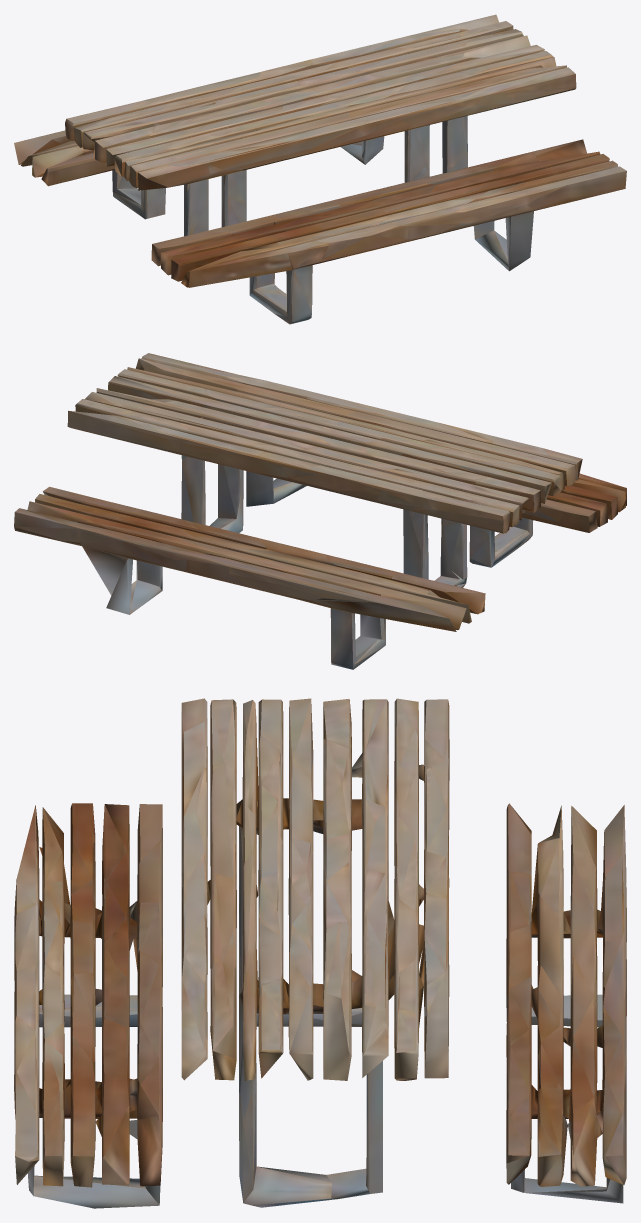
Rendered from kursi_taman_lod2.glb.
3 renders of one model, top to bottom at view 1: azimuth 30°, elevation 25°; view 2: azimuth 150°, elevation 25°; view 3: azimuth 270°, elevation 25°, orthographic. The views are drawn at different scales.
Parts seen in each view (by area): view 1: tripo_node_b01e4e72; view 2: tripo_node_b01e4e72; view 3: tripo_node_b01e4e72.
Boxes of the visible parts, x1,y1,x2,y2 form: tripo_node_b01e4e72: (14, 14, 626, 324); tripo_node_b01e4e72: (14, 353, 626, 669); tripo_node_b01e4e72: (14, 698, 626, 1208).
Size of the model in its own units: 99.91 by 31.19 by 73.19.
1 material, 1 textured.
